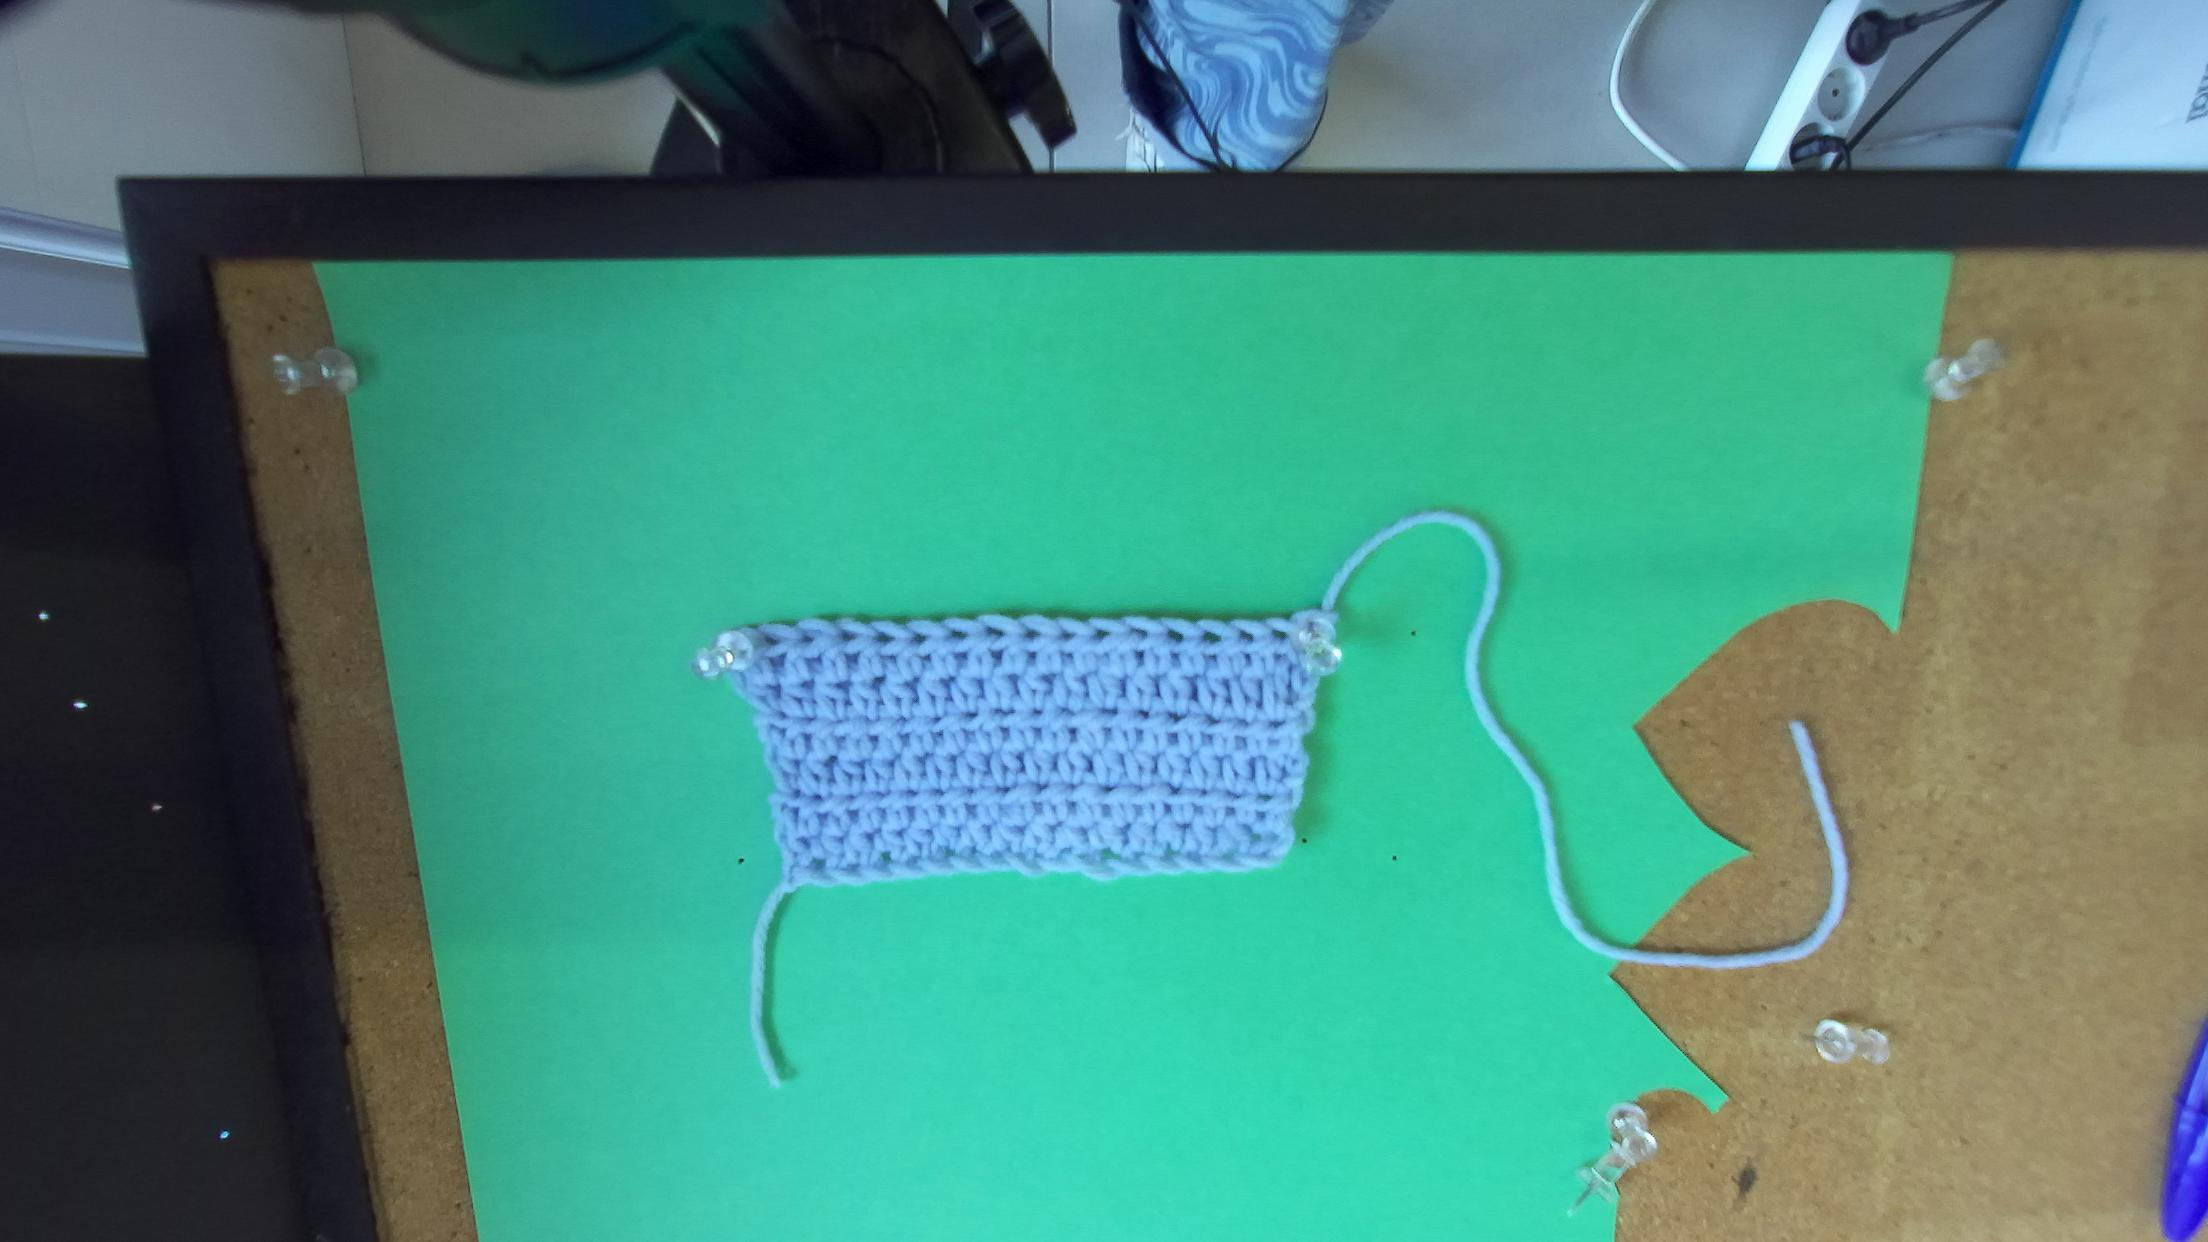hole: (986, 626, 1007, 641), (1166, 628, 1186, 643), (1057, 628, 1078, 641), (1239, 628, 1256, 645), (910, 632, 931, 645), (1201, 631, 1222, 643), (764, 632, 783, 646), (1130, 626, 1148, 640), (873, 632, 896, 643), (1092, 628, 1112, 640), (1272, 628, 1289, 641), (949, 629, 971, 640), (798, 632, 816, 645), (840, 631, 858, 641), (1024, 628, 1042, 638)
swatch: (695, 610, 1338, 902)
